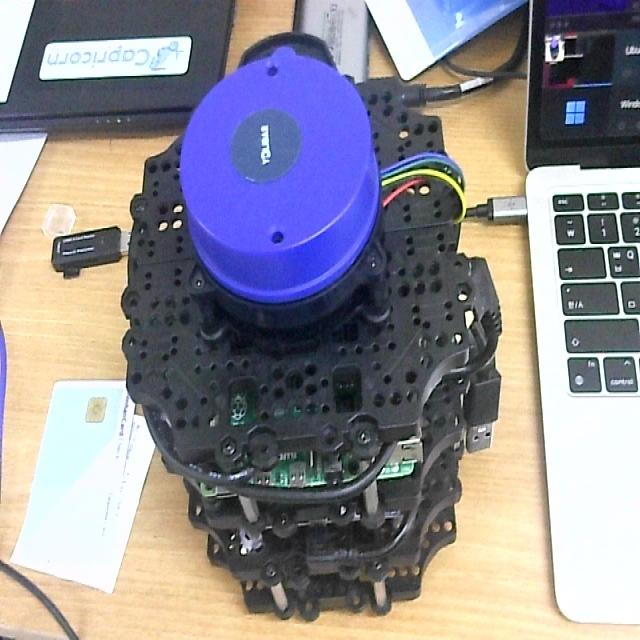turtle: (118, 28, 503, 624)
